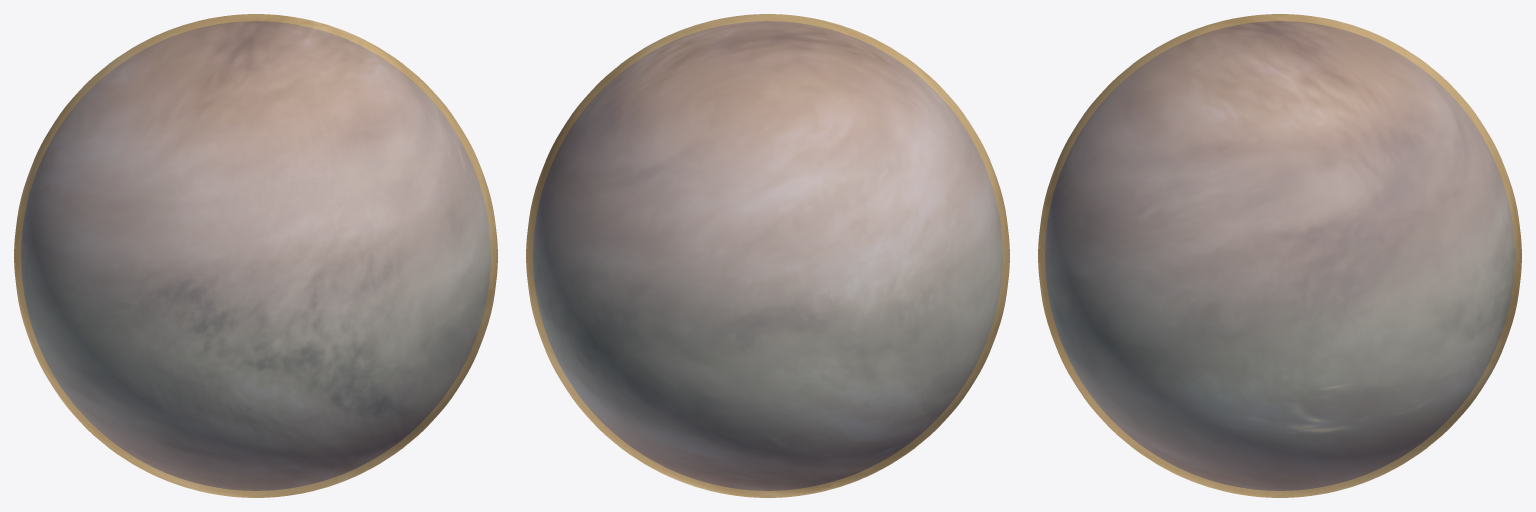
3 views of the same model, side by side, from view 1: azimuth 30°, elevation 25°; view 2: azimuth 150°, elevation 25°; view 3: azimuth 270°, elevation 25° (orthographic).
Parts seen in each view (by area): view 1: atmosphere, venus; view 2: atmosphere, venus; view 3: atmosphere, venus.
Part boxes in pixels (bbox=[...]): atmosphere: bbox=[14, 14, 497, 497]; venus: bbox=[21, 21, 490, 490]; atmosphere: bbox=[526, 14, 1009, 497]; venus: bbox=[533, 21, 1002, 490]; atmosphere: bbox=[1038, 14, 1521, 497]; venus: bbox=[1045, 21, 1514, 490].
Bounding box in the file's own units: 26.73 × 26.74 × 26.73.
